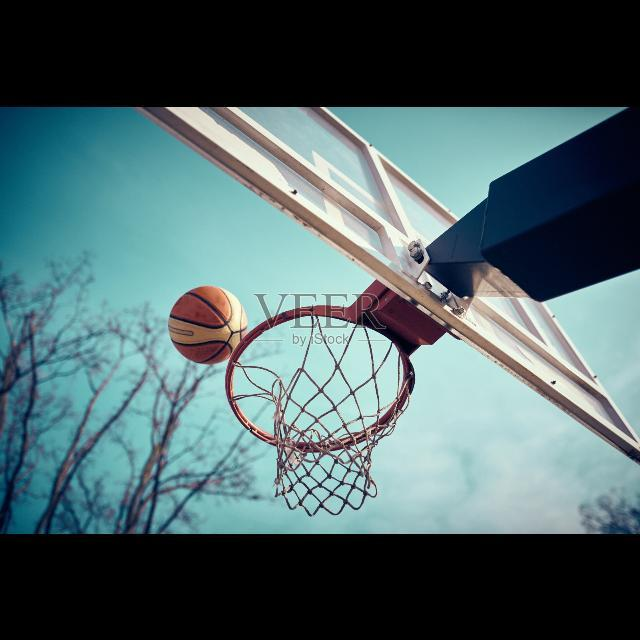basketball: (170, 284, 248, 364)
rim: (226, 305, 414, 515)
